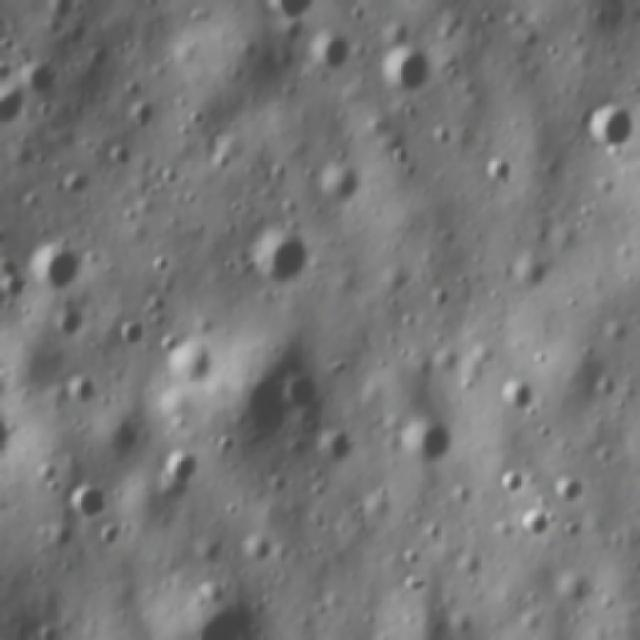crater: (576, 98, 633, 153), (251, 232, 306, 286), (28, 243, 81, 294), (372, 48, 437, 86), (397, 426, 451, 462), (160, 337, 206, 378), (62, 476, 103, 521), (302, 36, 346, 67), (280, 374, 314, 412), (313, 162, 350, 196), (163, 449, 200, 482), (24, 61, 53, 98), (486, 154, 514, 192), (382, 140, 415, 172), (53, 306, 90, 334), (518, 508, 550, 540), (114, 319, 140, 356), (72, 372, 100, 401), (501, 463, 522, 500), (504, 376, 531, 404), (554, 472, 580, 499)
